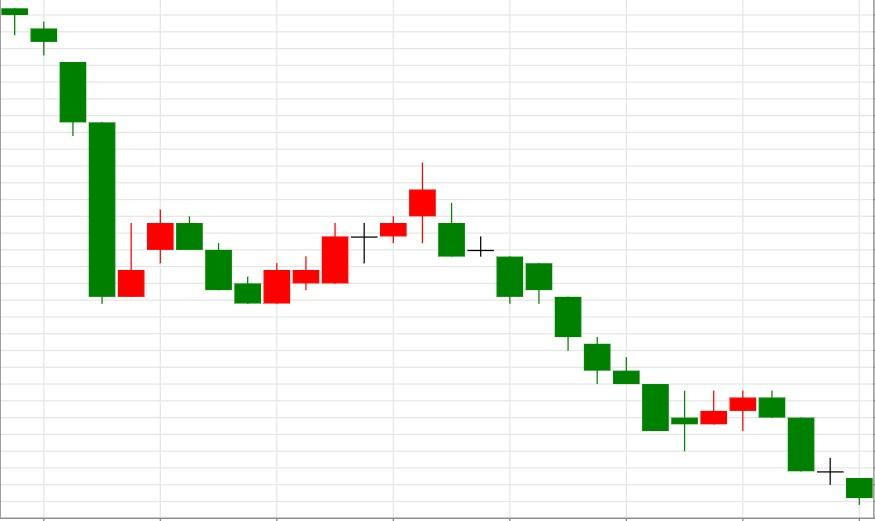bullish_engulfing_rise: (147, 209, 291, 304)
